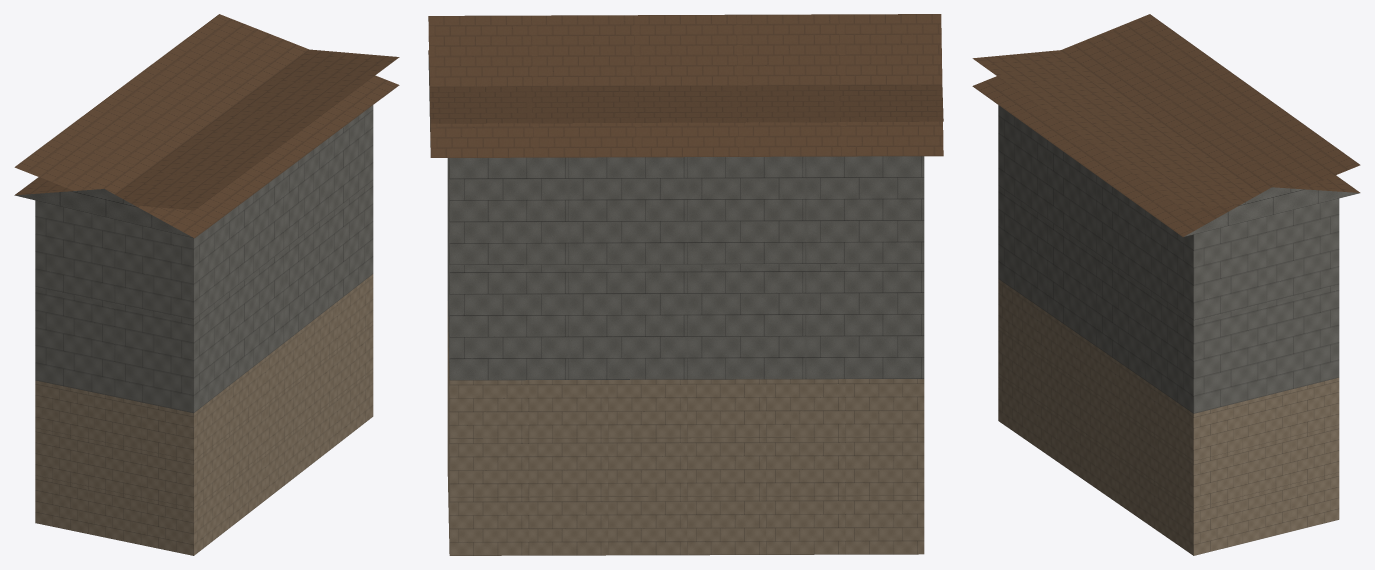
The model's file is bld_c44_-14_368.gltf.
3 renders of one model, left to right at view 1: azimuth 30°, elevation 25°; view 2: azimuth 150°, elevation 25°; view 3: azimuth 270°, elevation 25°, orthographic. The views are drawn at different scales.
Parts seen in each view (by area): view 1: bld_c44_-14_368; view 2: bld_c44_-14_368; view 3: bld_c44_-14_368.
Boxes of the visible parts, left/top/right/bottom form: bld_c44_-14_368: left=14, top=14, right=399, bottom=555; bld_c44_-14_368: left=428, top=14, right=943, bottom=555; bld_c44_-14_368: left=972, top=14, right=1360, bottom=555.
Bounding box in the file's own units: 15.04 × 12.8 × 12.64.
4 materials, 4 textured.
